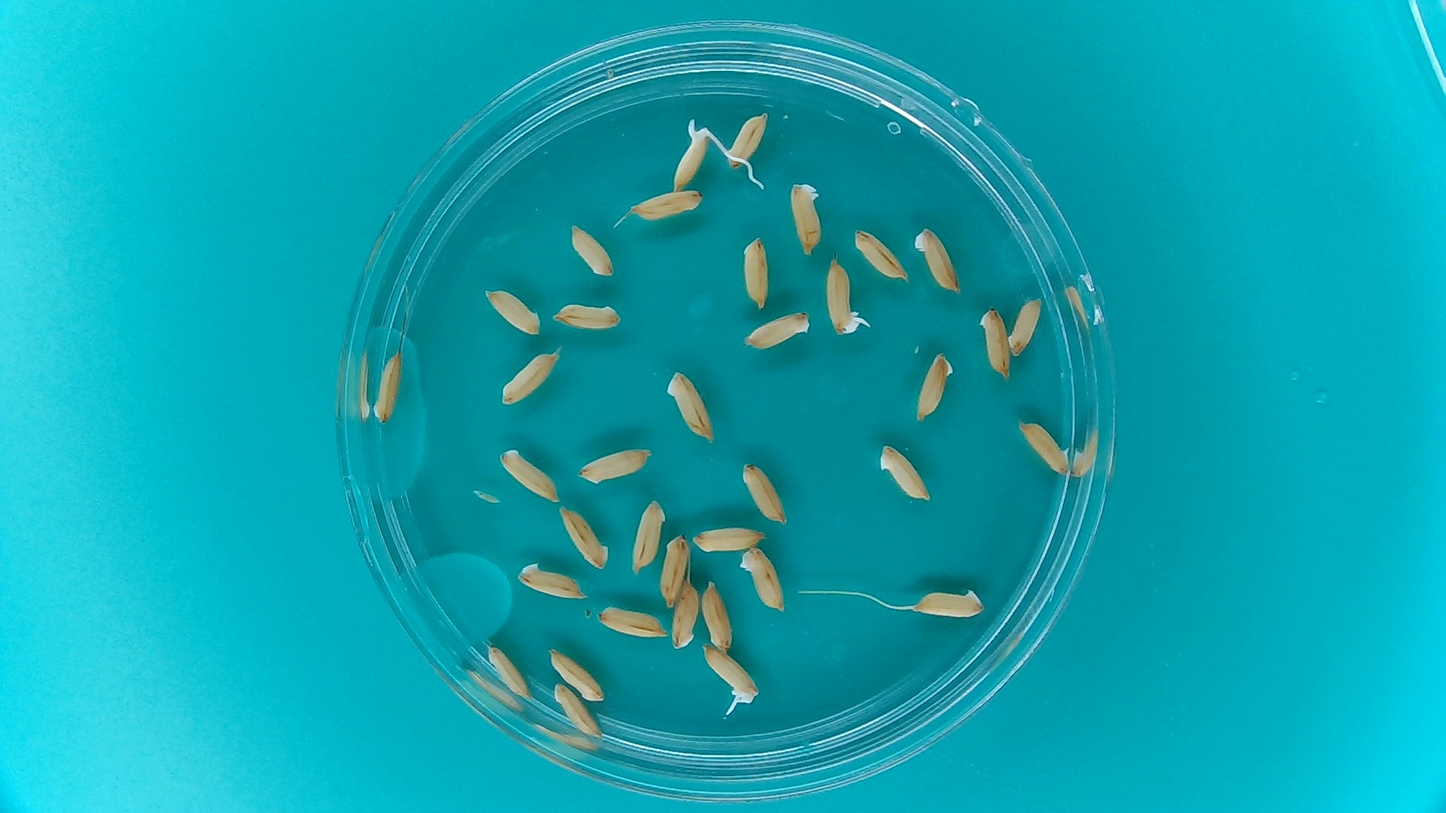no: (661, 365, 719, 443), (911, 221, 966, 297), (498, 442, 563, 506), (545, 641, 608, 706), (496, 346, 560, 407), (719, 108, 771, 181), (874, 441, 935, 503), (624, 182, 706, 228), (557, 503, 612, 571), (737, 544, 789, 615), (911, 344, 957, 423), (787, 177, 831, 259), (852, 224, 911, 285), (1014, 414, 1070, 477), (566, 217, 620, 282), (513, 560, 591, 605), (368, 344, 411, 425), (482, 282, 544, 338), (737, 458, 787, 525), (732, 231, 773, 312), (737, 309, 814, 352), (551, 679, 604, 740), (554, 288, 624, 334), (484, 640, 534, 704), (576, 443, 652, 485), (655, 532, 694, 611), (629, 498, 668, 576), (975, 300, 1013, 379), (908, 583, 987, 621), (593, 604, 668, 642), (700, 577, 737, 652), (667, 577, 701, 653), (1006, 290, 1045, 355), (691, 522, 769, 553)
yes: (697, 643, 759, 706), (825, 262, 862, 337), (671, 128, 712, 190)
